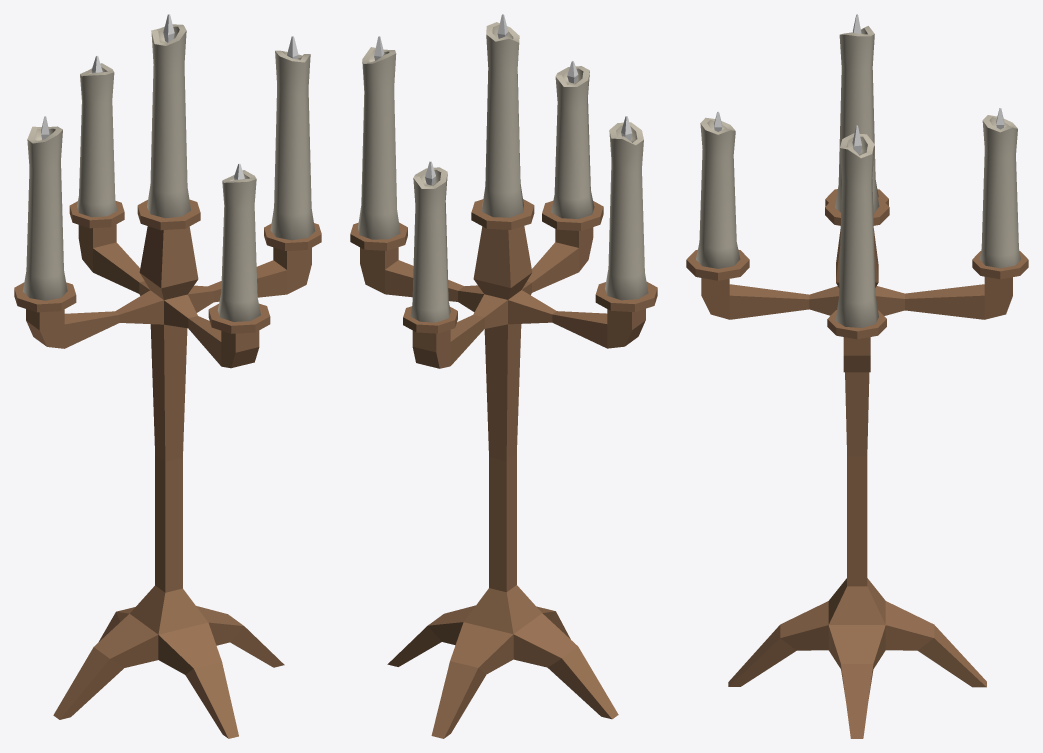
The model's file is CandelStickHolder.fbx.
3 renders of one model, left to right at view 1: azimuth 30°, elevation 25°; view 2: azimuth 150°, elevation 25°; view 3: azimuth 270°, elevation 25°, orthographic.
Parts seen in each view (by area): view 1: CandelStickHolder; view 2: CandelStickHolder; view 3: CandelStickHolder.
Part boxes in pixels (x1,y1,x2,y2): CandelStickHolder: [14, 14, 321, 738]; CandelStickHolder: [350, 14, 657, 738]; CandelStickHolder: [686, 14, 1028, 738].
Bounding box in the file's own units: 127 × 272 × 126.
